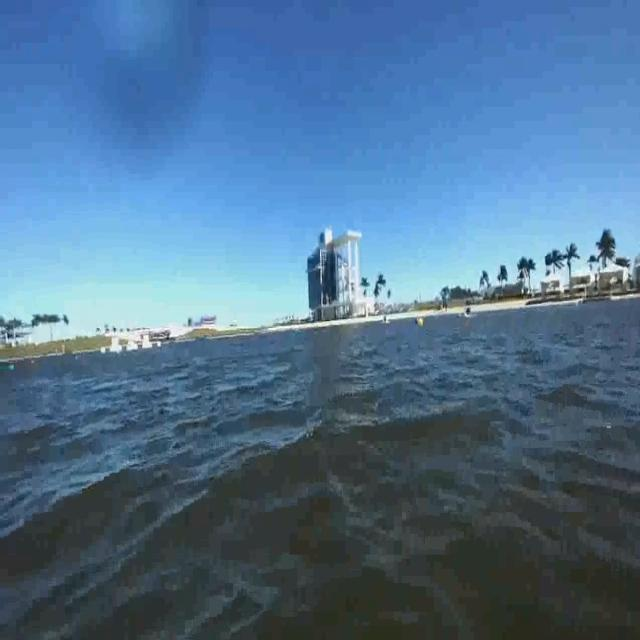green-buoy: (8, 359, 15, 372)
yellow-buoy: (418, 316, 425, 328)
